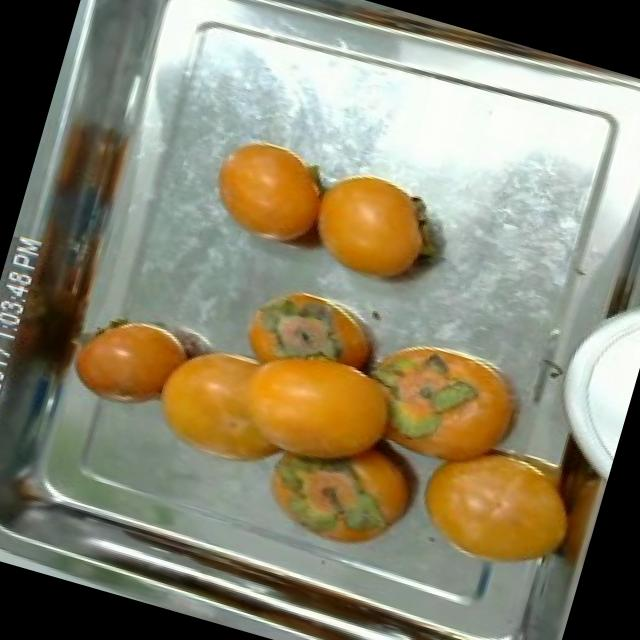Fruit: (391, 418, 598, 597), (134, 326, 336, 492), (294, 155, 462, 304), (194, 122, 344, 260), (58, 298, 203, 428), (240, 276, 396, 382)
